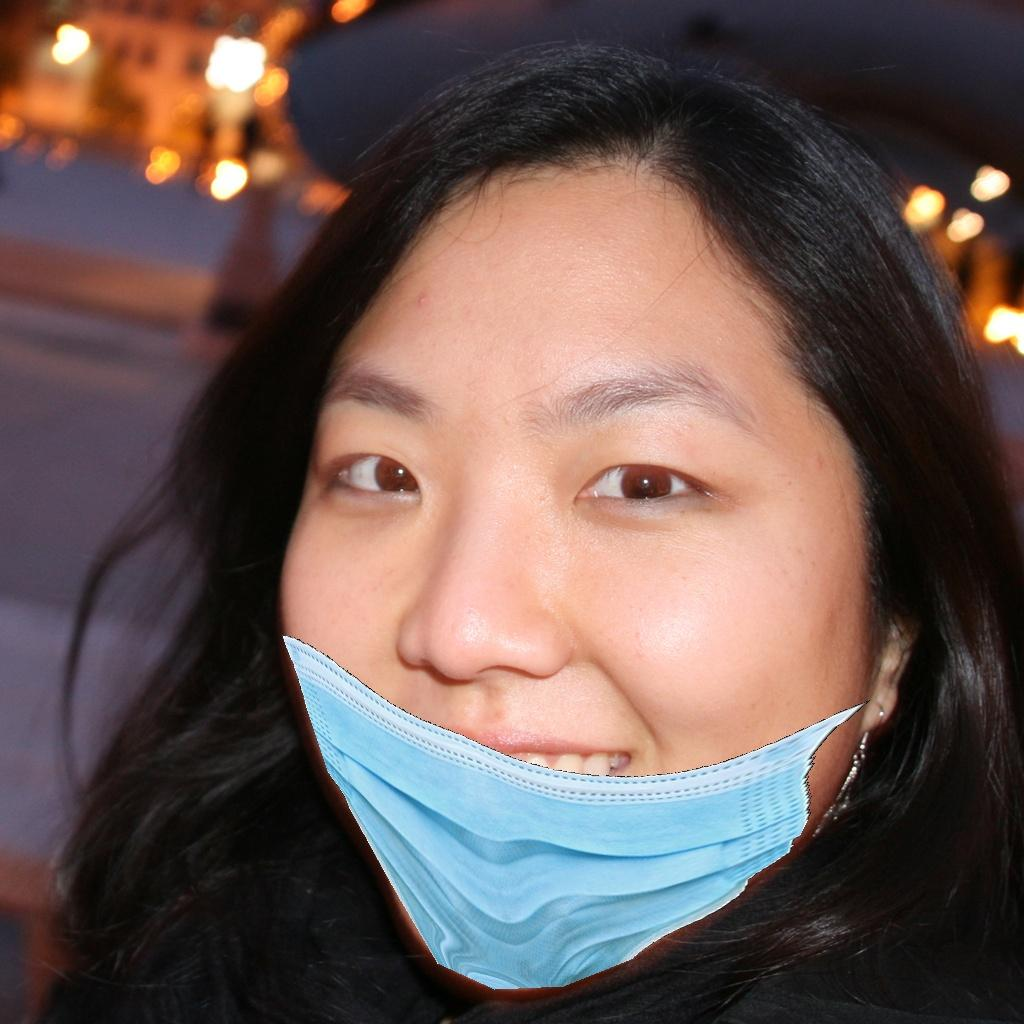Máscara Incorreta: (266, 350, 861, 908)
